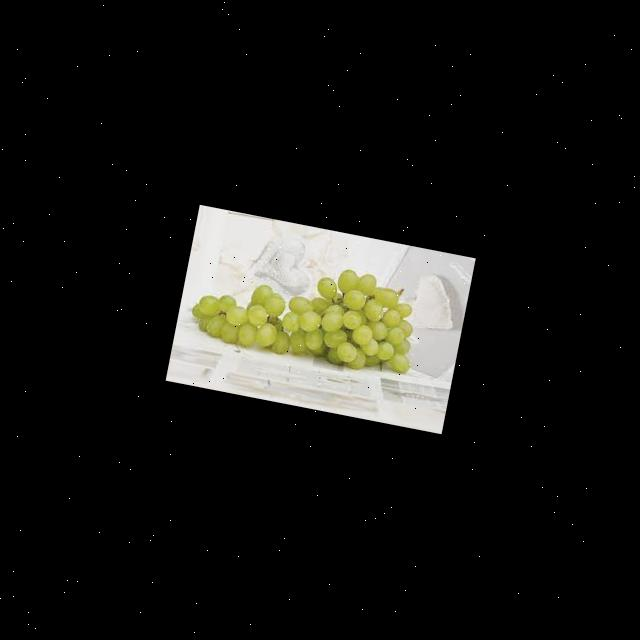grape: (186, 242, 426, 381)
